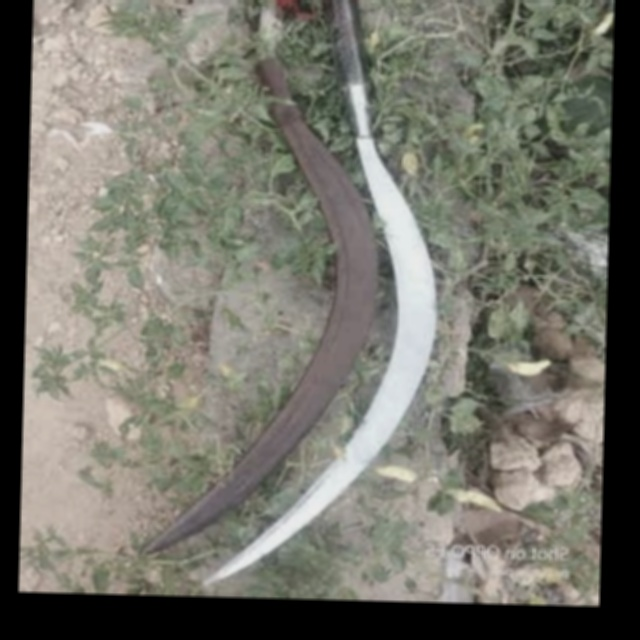Sharp-Object: (221, 0, 440, 588)
